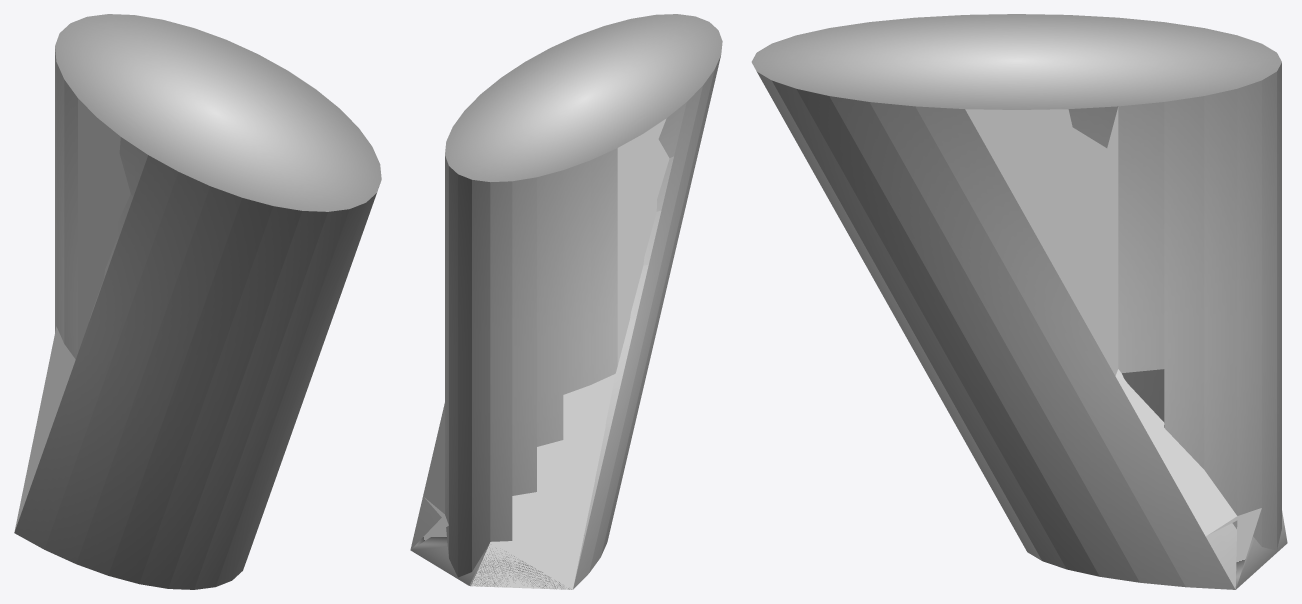
The model's file is CrochetStitches.fbx.
3 renders of one model, left to right at view 1: azimuth 30°, elevation 25°; view 2: azimuth 150°, elevation 25°; view 3: azimuth 270°, elevation 25°, orthographic. The views are drawn at different scales.
Visible parts, largest first — view 1: DoubleCrochet; view 2: DoubleCrochet; view 3: DoubleCrochet.
Boxes of the visible parts, box(x1,y1,x2,y2) form: DoubleCrochet: box(14, 14, 381, 589); DoubleCrochet: box(410, 14, 722, 589); DoubleCrochet: box(751, 14, 1287, 589).
Size of the model in its own units: 60 by 140 by 141.
